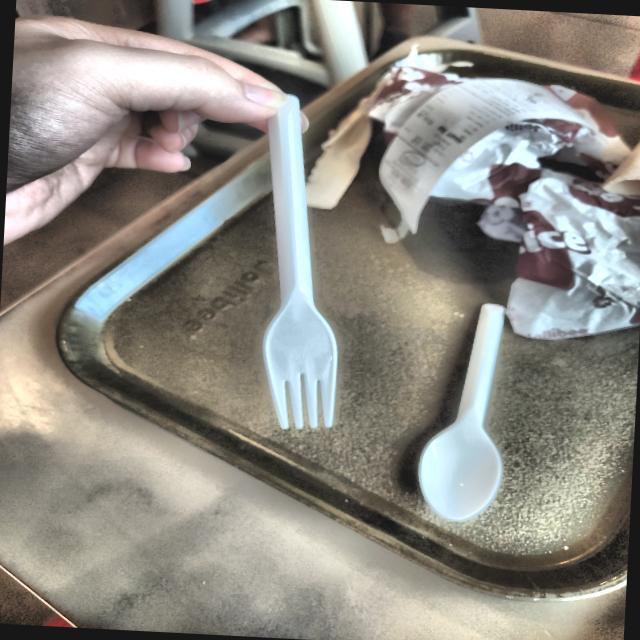plastic utensil: (263, 97, 338, 429), (419, 305, 504, 520)
